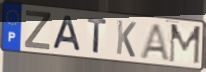A: (138, 23, 172, 63), (52, 14, 83, 53)
K: (115, 18, 138, 59)
M: (168, 23, 203, 67)
T: (86, 16, 109, 55)
Z: (23, 9, 52, 52)
